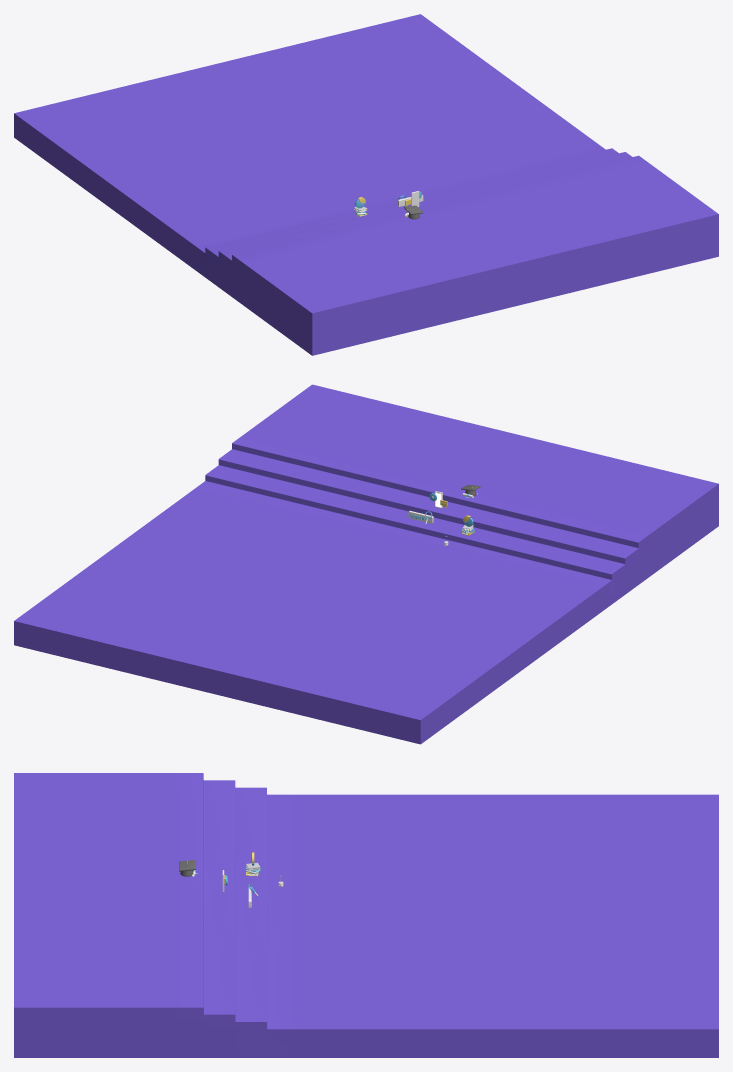
File: CTB-gltf-demo.gltf
3 views of the same model, one above another, from view 1: azimuth 30°, elevation 25°; view 2: azimuth 150°, elevation 25°; view 3: azimuth 270°, elevation 25° (orthographic). The views are drawn at different scales.
Parts seen in each view (by area): view 1: 立方体; view 2: 立方体; view 3: 立方体.
Boxes of the visible parts, left/top/right/bottom form: 立方体: left=14, top=14, right=718, bottom=355; 立方体: left=14, top=384, right=718, bottom=744; 立方体: left=14, top=773, right=718, bottom=1057.
Size of what is drawn, in the model's own units: 2940 by 362 by 3735.
